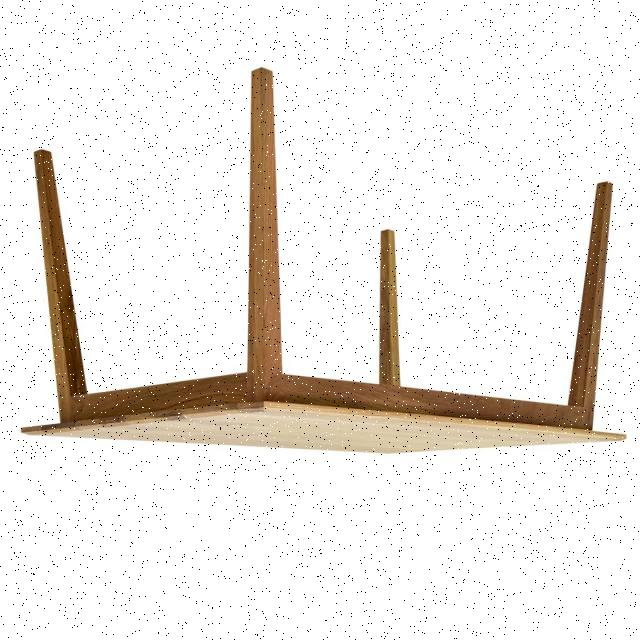mobile-phone: (14, 66, 632, 457)
